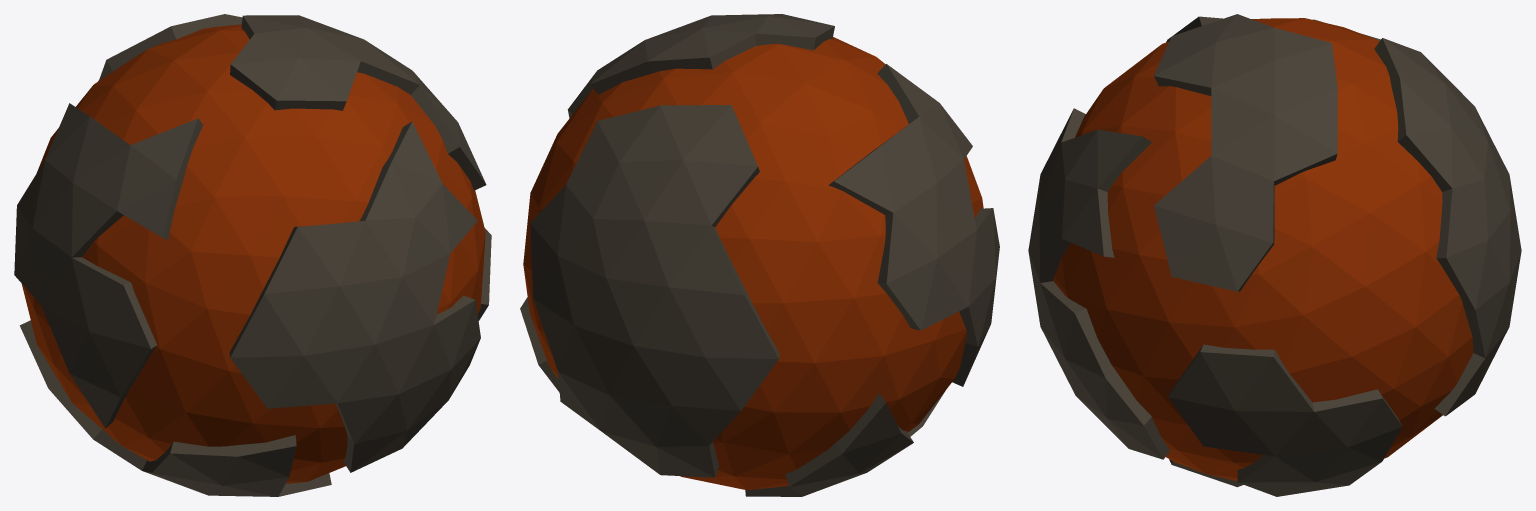
The model's file is settingsPlanet.glb.
3 renders of one model, left to right at view 1: azimuth 30°, elevation 25°; view 2: azimuth 150°, elevation 25°; view 3: azimuth 270°, elevation 25°, orthographic.
Visible parts, largest first — view 1: Icosphere.003, Icosphere.002; view 2: Icosphere.003, Icosphere.002; view 3: Icosphere.003, Icosphere.002.
Part boxes in pixels (x1,y1,x2,y2): Icosphere.003: (14, 14, 491, 496); Icosphere.002: (22, 24, 485, 483); Icosphere.003: (520, 14, 999, 496); Icosphere.002: (523, 37, 983, 490); Icosphere.003: (1028, 14, 1521, 496); Icosphere.002: (1053, 18, 1473, 481).
Bounding box in the file's own units: 2.15 × 2.15 × 2.16.
